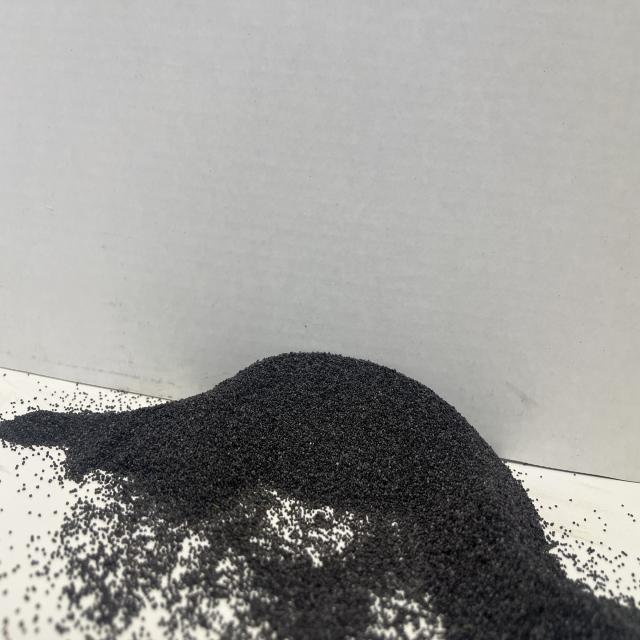Poppy Seeds: (109, 348, 609, 638)
